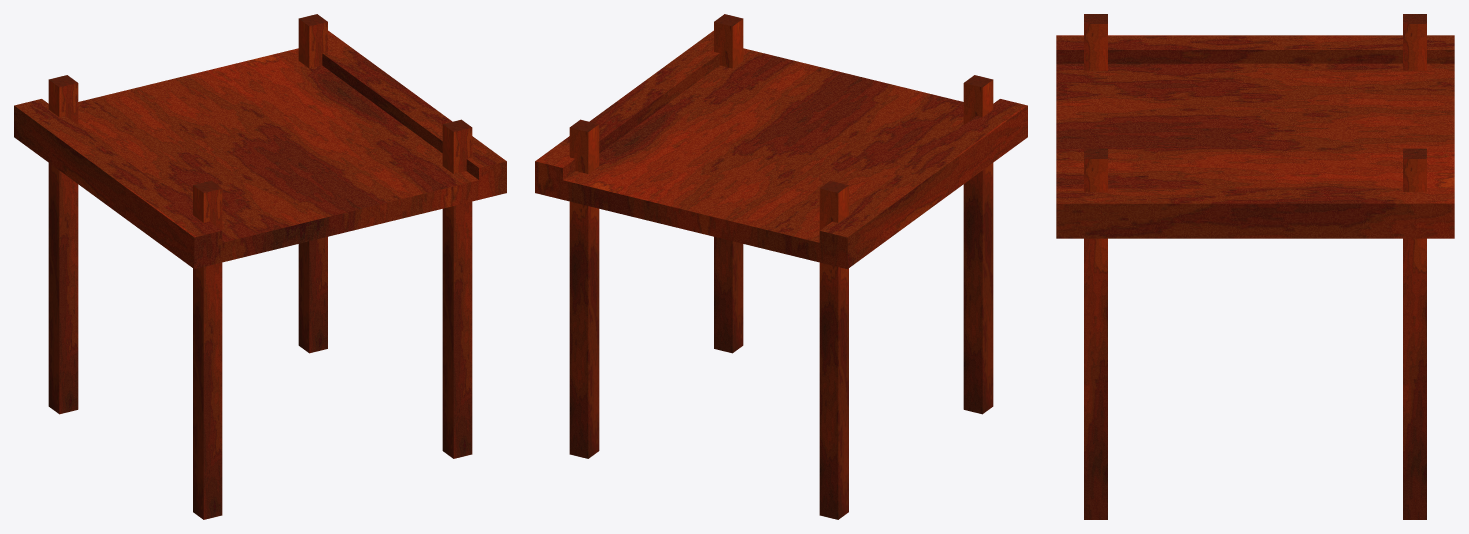
Rendered from Pier_straight_01_unity.fbx.
The picture shows the model from 3 angles, left to right: view 1: azimuth 30°, elevation 25°; view 2: azimuth 150°, elevation 25°; view 3: azimuth 270°, elevation 25°; orthographic projection. The views are drawn at different scales.
Visible parts, largest first — view 1: Pier_straight; view 2: Pier_straight; view 3: Pier_straight.
Part boxes in pixels (<box>): Pier_straight: <box>14,14,506,519</box>; Pier_straight: <box>535,14,1027,519</box>; Pier_straight: <box>1056,14,1454,519</box>.
Bounding box in the file's own units: 5 × 5 × 5.
